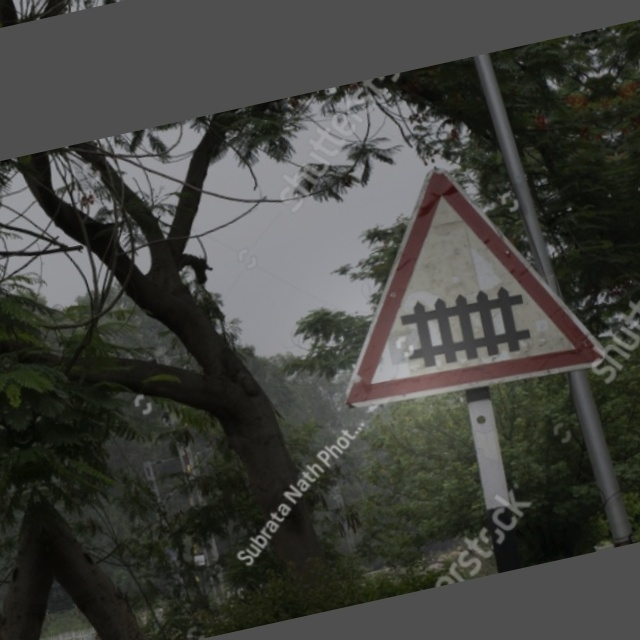Guarded_Level_Crossing: (307, 147, 609, 415)
